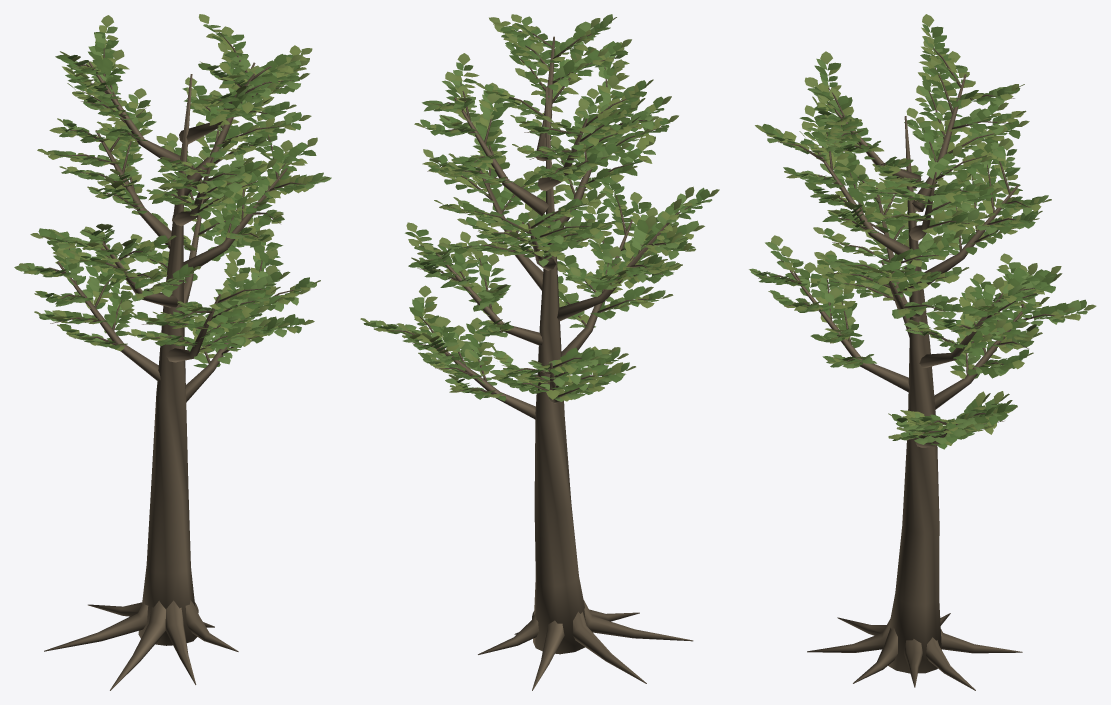
File: gallery-column.glb
The picture shows the model from 3 angles, left to right: view 1: azimuth 30°, elevation 25°; view 2: azimuth 150°, elevation 25°; view 3: azimuth 270°, elevation 25°; orthographic projection. The views are drawn at different scales.
Parts seen in each view (by area): view 1: LAND02 gallery-column; view 2: LAND02 gallery-column; view 3: LAND02 gallery-column.
Boxes of the visible parts, x1,y1,x2,y2 form: LAND02 gallery-column: [14, 14, 331, 690]; LAND02 gallery-column: [360, 14, 719, 690]; LAND02 gallery-column: [749, 14, 1096, 690].
Size of the model in its own units: 8.87 by 17.57 by 9.14.
